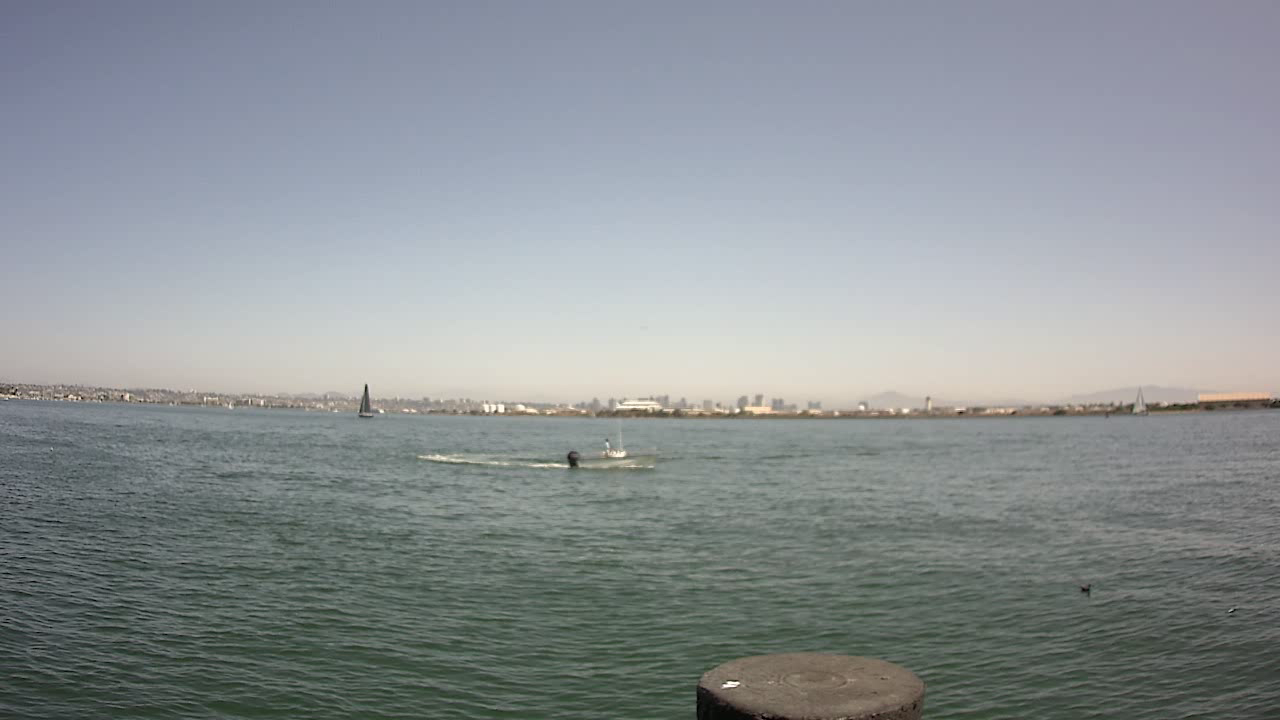target: (564, 418, 667, 474)
